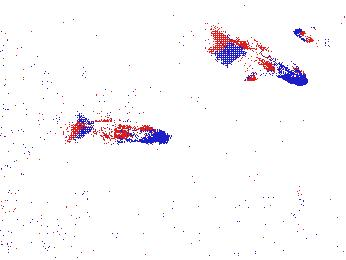red belly glassfish: (293, 27, 316, 45)
redtail glassfish: (224, 37, 309, 86), (75, 116, 172, 145)
